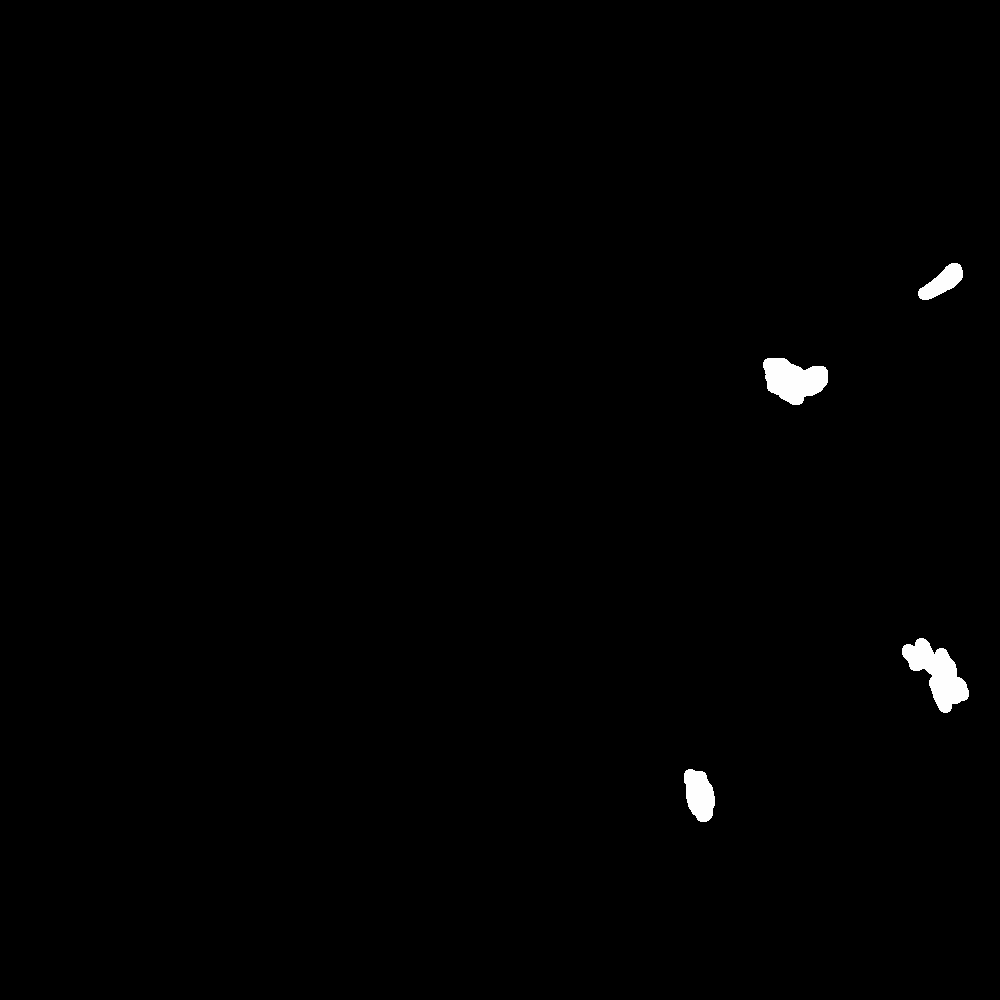illegal: (550, 376, 586, 412), (683, 774, 711, 815), (434, 368, 452, 402)
